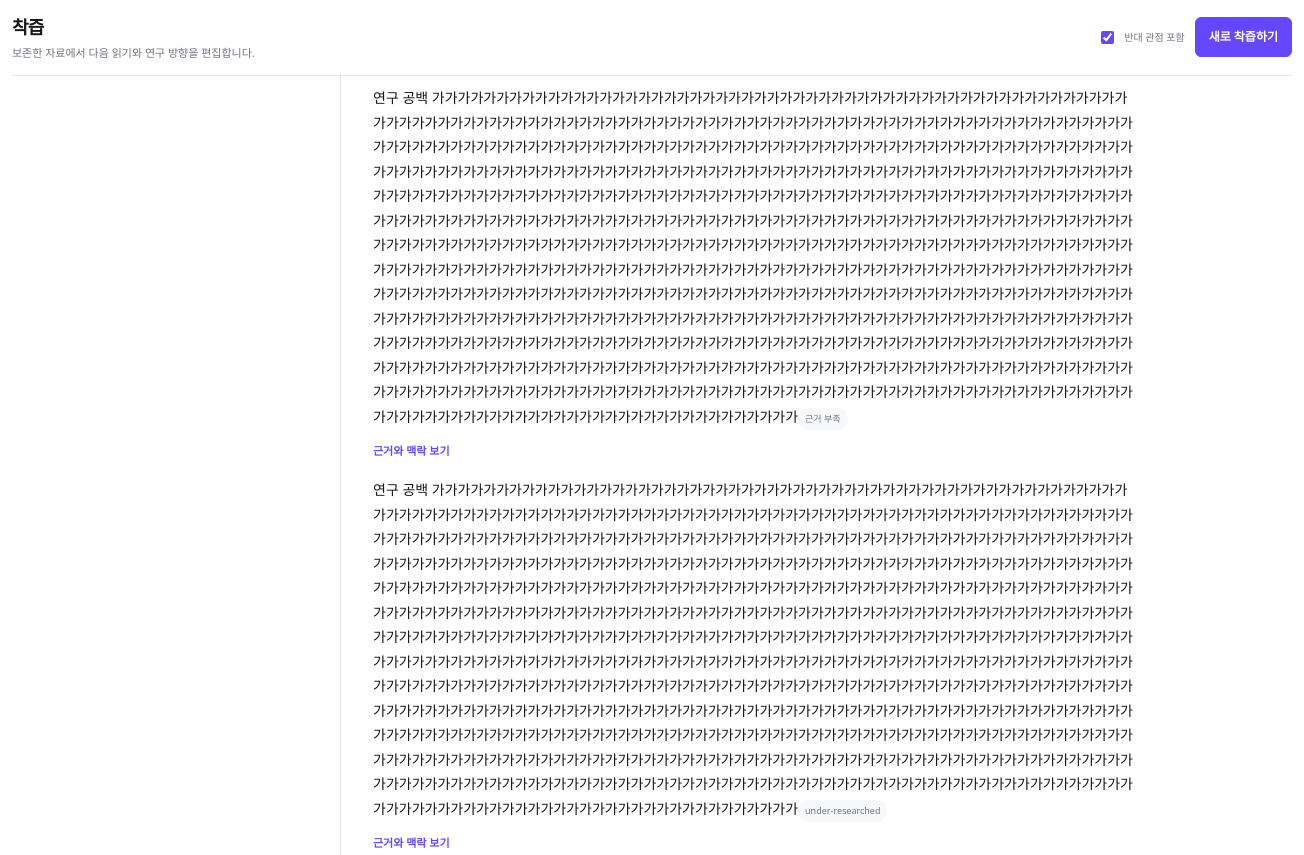
Test: DistillView › renders research-gap details by output index, including long and duplicate gap text
(page scrolled)
Click the 1st button "근거와 맥락 보기": (411,450) [373,442,450,459]
(page scrolled)
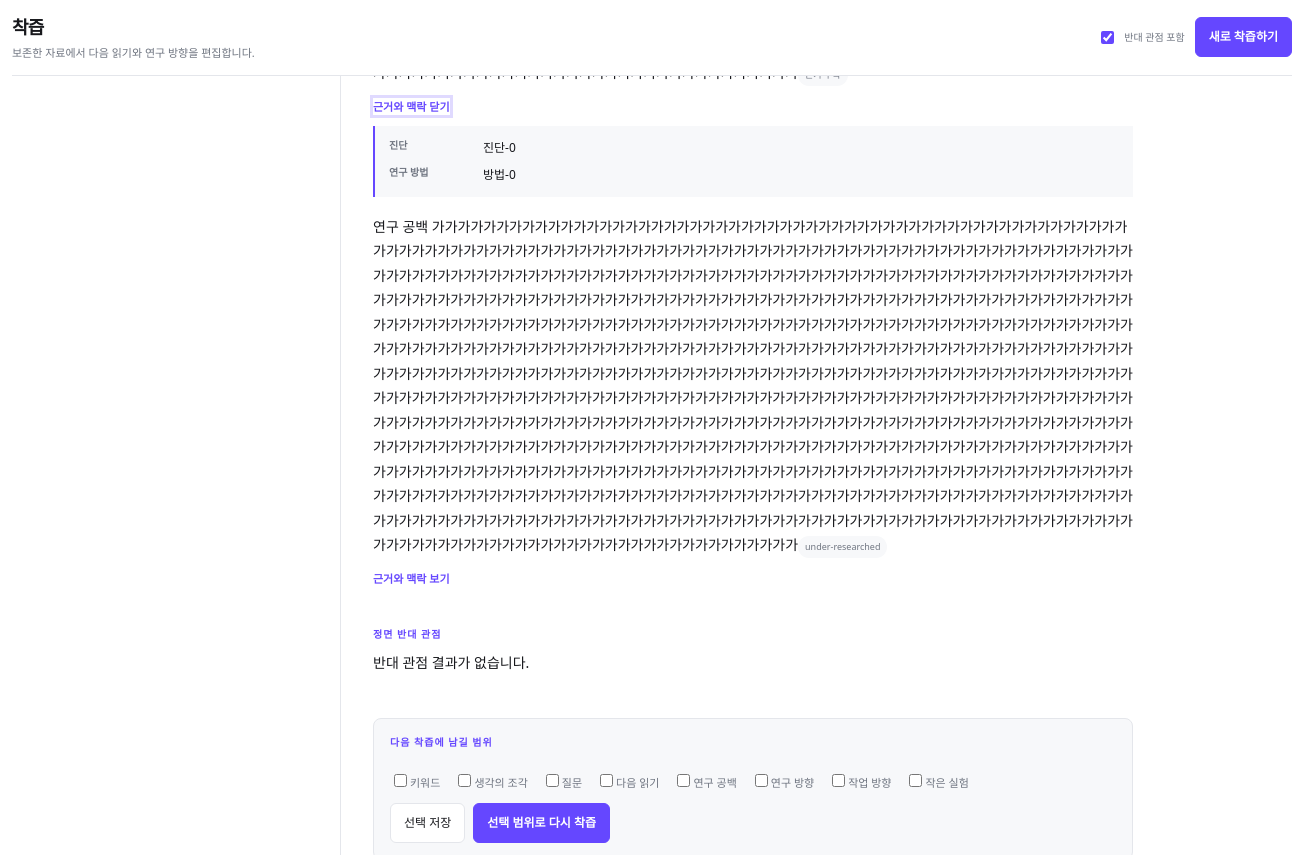
Result: the text "진단-0" is shown at [483,139,516,156]
Click the button "근거와 맥락 보기": (411,578) [373,570,450,587]
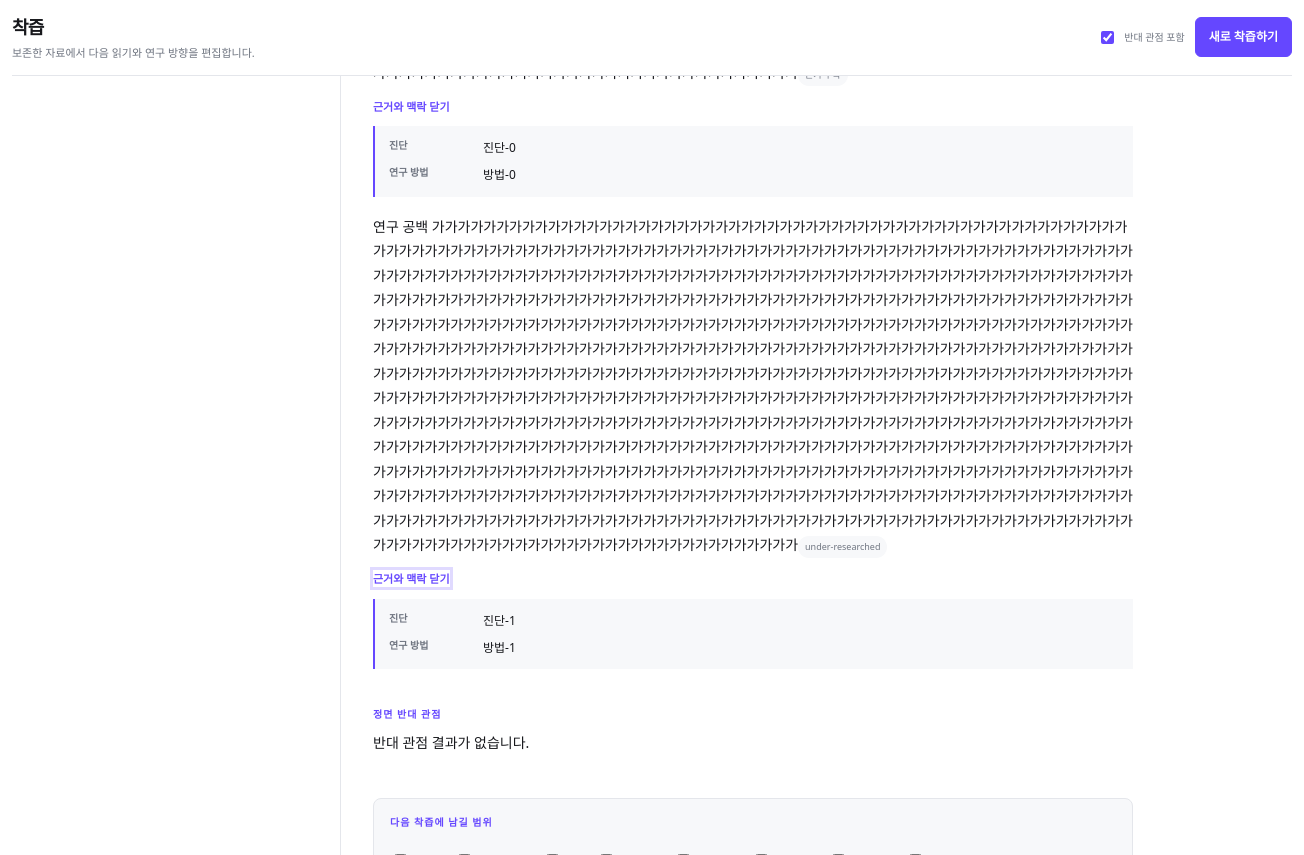
Result: the text "진단-1" is shown at [483,612,516,629]
